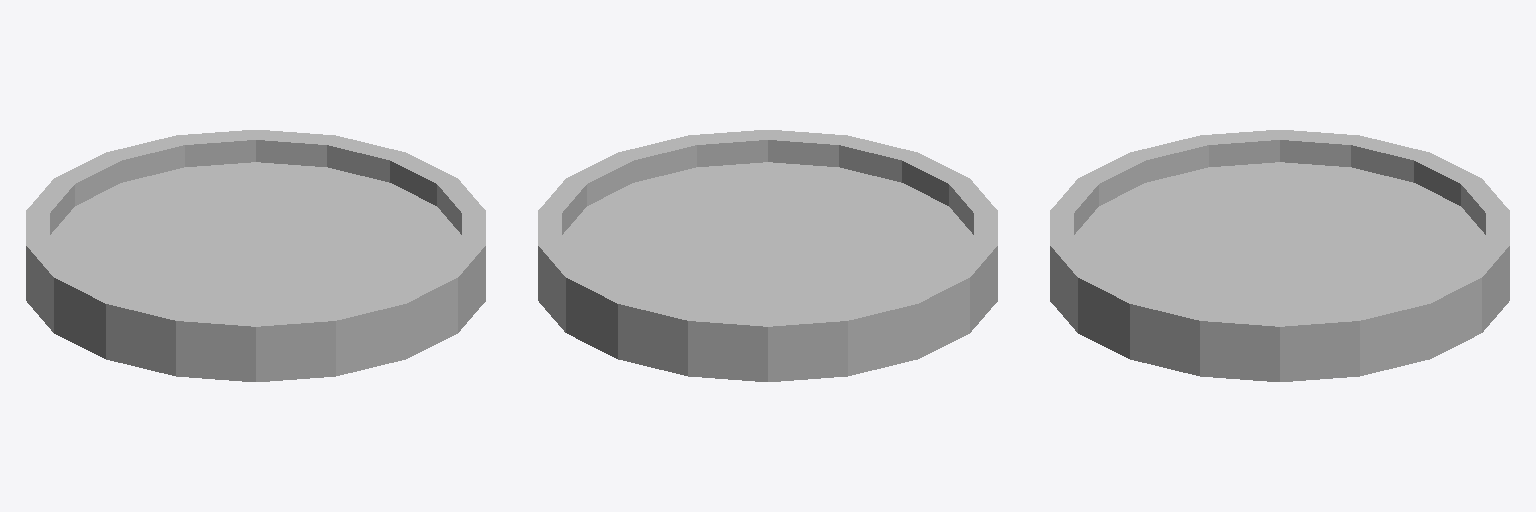
Rendered from eave_tile.obj.
3 renders of one model, left to right at view 1: azimuth 30°, elevation 25°; view 2: azimuth 150°, elevation 25°; view 3: azimuth 270°, elevation 25°, orthographic.
Visible parts, largest first — view 1: Cylinder01 網狀; view 2: Cylinder01 網狀; view 3: Cylinder01 網狀.
Boxes of the visible parts, x1=… form: Cylinder01 網狀: x1=26, y1=130, x2=485, y2=381; Cylinder01 網狀: x1=538, y1=130, x2=997, y2=381; Cylinder01 網狀: x1=1050, y1=130, x2=1509, y2=381.
Size of the model in its own units: 38 by 5 by 37.42.